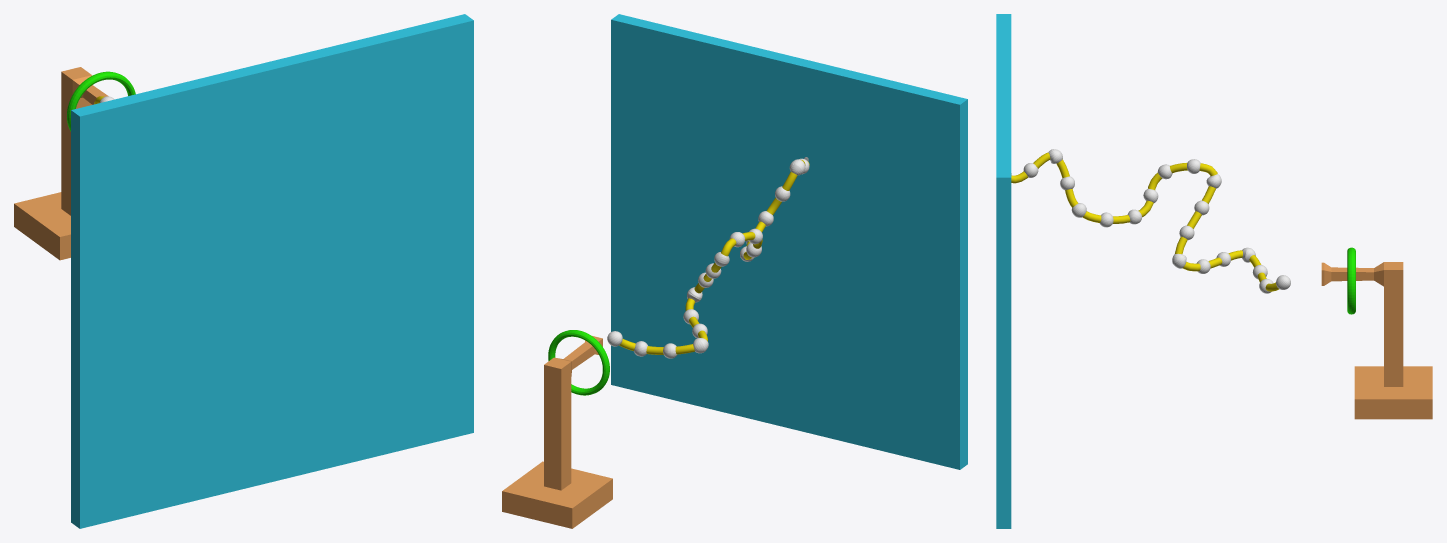
The model's file is Ring.fbx.
The picture shows the model from 3 angles, left to right: view 1: azimuth 30°, elevation 25°; view 2: azimuth 150°, elevation 25°; view 3: azimuth 270°, elevation 25°; orthographic projection. The views are drawn at different scales.
Parts seen in each view (by area): view 1: Cube, Cube.001, RIng; view 2: Cube, Cube.001, BezierCurve, RIng; view 3: Cube, Cube.001, BezierCurve, RIng.
Boxes of the visible parts, x1,y1,x2,y2 form: Cube: (71, 14, 473, 528); Cube.001: (14, 67, 108, 260); RIng: (67, 71, 135, 131); Cube: (611, 14, 967, 469); Cube.001: (502, 336, 612, 528); BezierCurve: (619, 159, 809, 354); RIng: (548, 330, 609, 395); Cube: (996, 14, 1011, 528); Cube.001: (1321, 262, 1432, 419); BezierCurve: (1011, 152, 1279, 291); RIng: (1347, 247, 1355, 314).
Size of the model in its own units: 992 by 992 by 1117.
